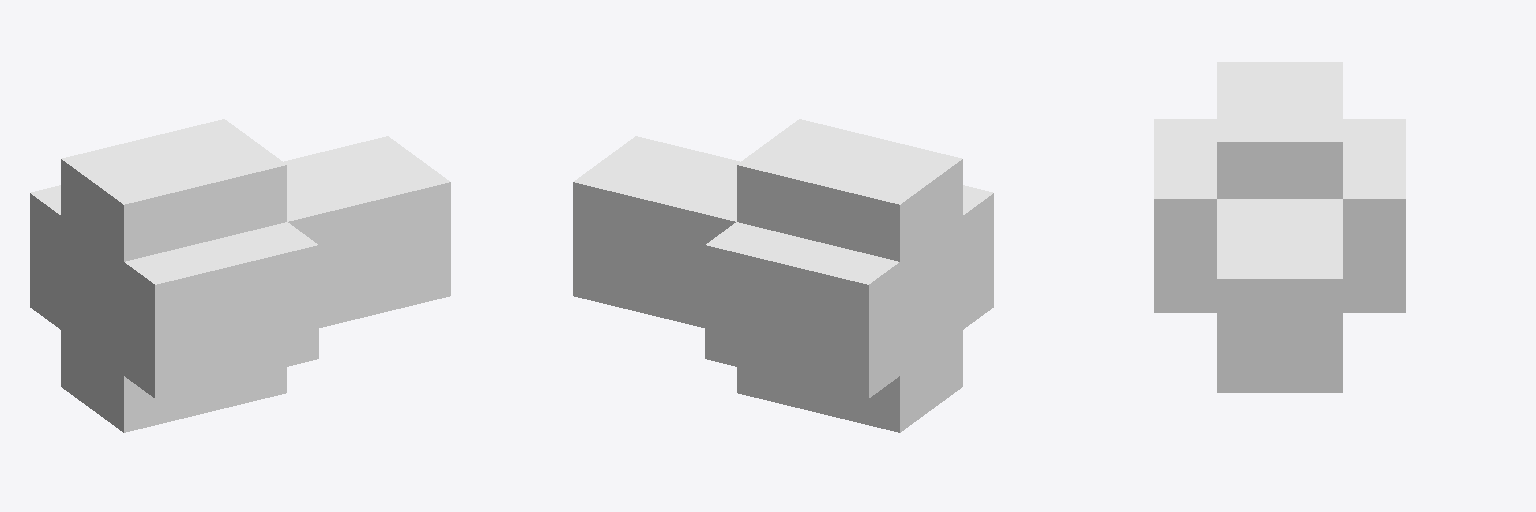
Rendered from male-52.obj.
3 renders of one model, left to right at view 1: azimuth 30°, elevation 25°; view 2: azimuth 150°, elevation 25°; view 3: azimuth 270°, elevation 25°, orthographic.
Visible parts, largest first — view 1: object 1; view 2: object 1; view 3: object 1.
Part boxes in pixels (x1,y1,x2,y2): object 1: (30, 119, 450, 432); object 1: (573, 119, 993, 432); object 1: (1154, 62, 1405, 392).
Bounding box in the file's own units: 0.6 × 0.4 × 0.4.